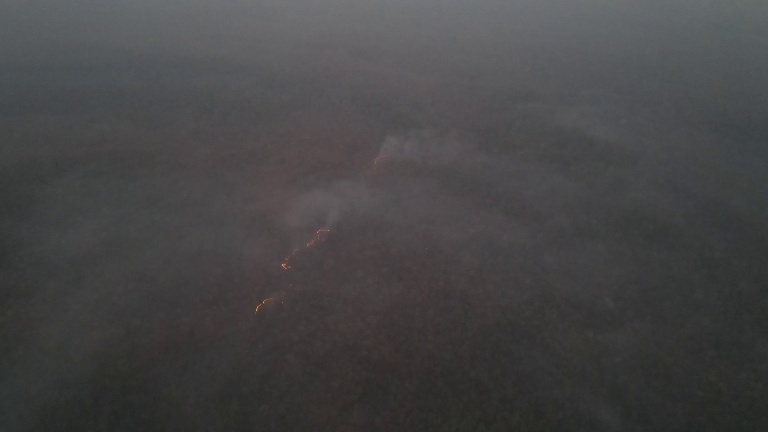fire: (278, 224, 332, 274), (247, 294, 270, 317), (367, 153, 384, 170)
smoke: (291, 172, 391, 231)
